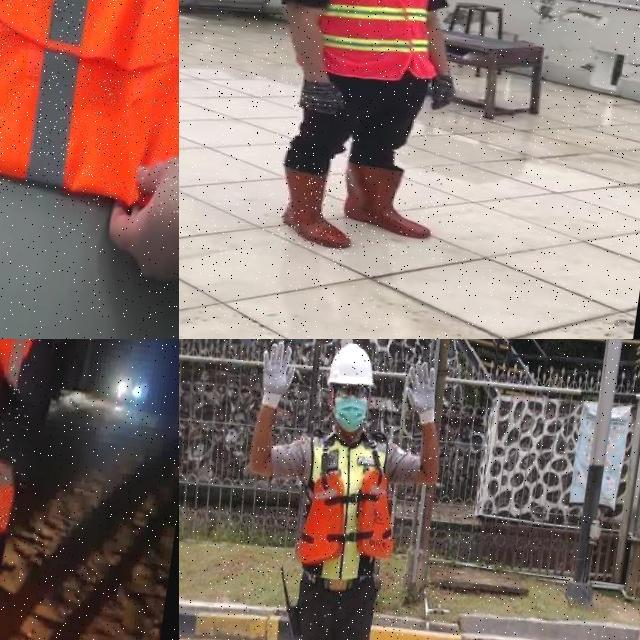boots: (336, 157, 443, 244), (276, 160, 360, 254)
helmet: (324, 339, 384, 397)
vest: (0, 0, 179, 232), (288, 420, 414, 598), (264, 0, 456, 91), (0, 339, 47, 548)
